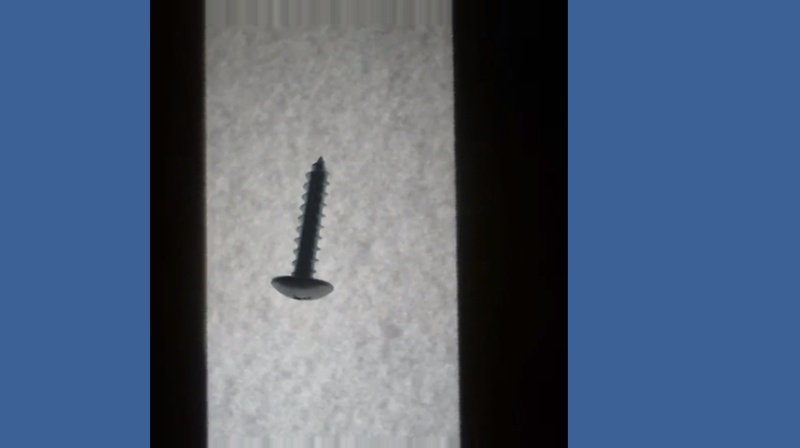S003: (268, 153, 333, 303)
